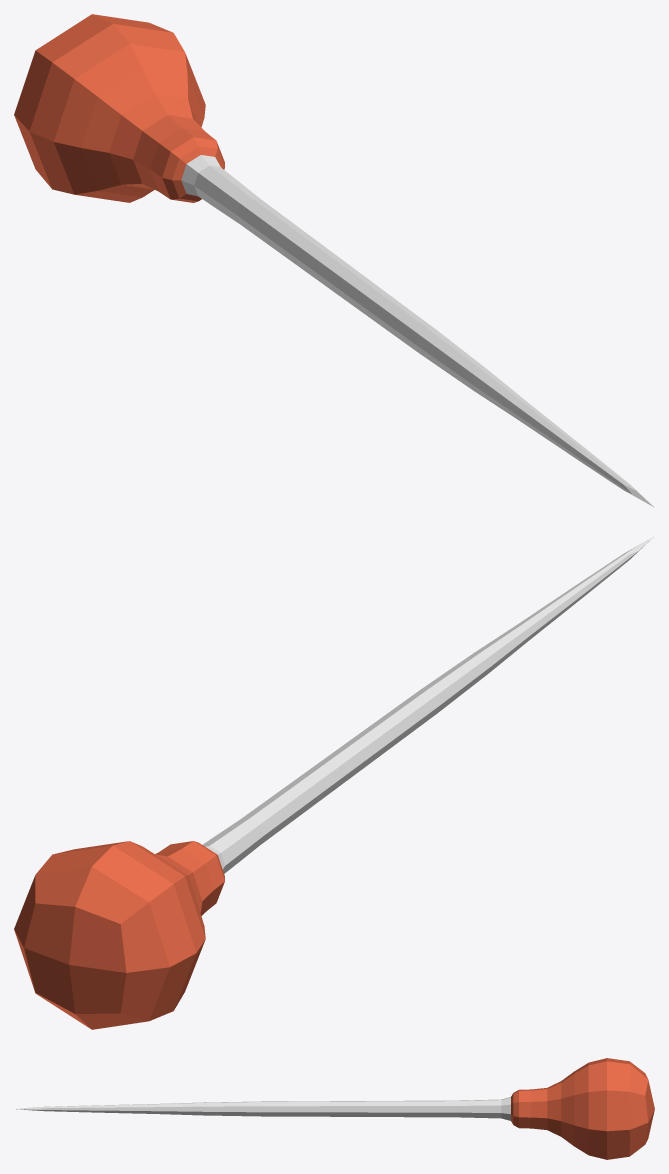
File: Pipette.fbx
3 views of the same model, one above another, from view 1: azimuth 30°, elevation 25°; view 2: azimuth 150°, elevation 25°; view 3: azimuth 270°, elevation 25° (orthographic). The views are drawn at different scales.
Visible parts, largest first — view 1: Cube.001; view 2: Cube.001; view 3: Cube.001.
Boxes of the visible parts, box(x1,y1,x2,y2) form: Cube.001: box(14, 14, 654, 507); Cube.001: box(14, 536, 654, 1029); Cube.001: box(16, 1058, 654, 1159).
Size of the model in its own units: 7.16 by 7.16 by 43.52.
